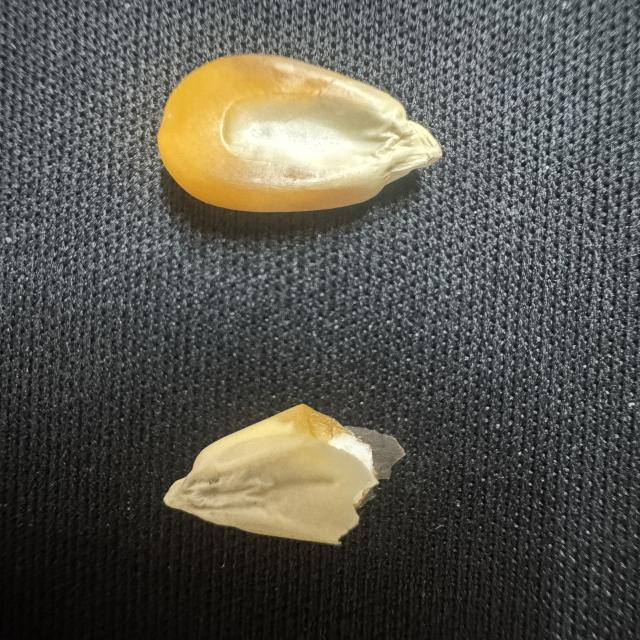Bad-Seed: (153, 394, 414, 569)
Good-Seed: (142, 48, 450, 223)
